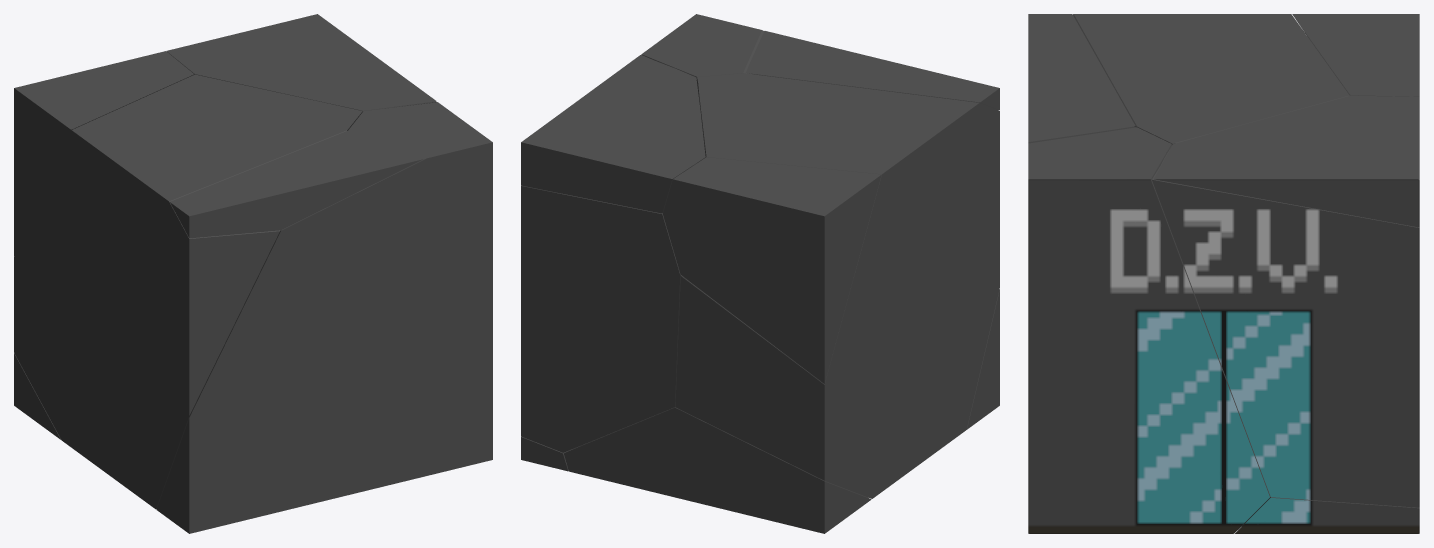
Rendered from GlassBuildingV128x128_Ground03_break.fbx.
The picture shows the model from 3 angles, left to right: view 1: azimuth 30°, elevation 25°; view 2: azimuth 150°, elevation 25°; view 3: azimuth 270°, elevation 25°; orthographic projection. The views are drawn at different scales.
Parts seen in each view (by area): view 1: Ground03Break05, Ground03Break06, Ground03Break02, Ground03Break07, Ground03Break08, Ground03Break01; view 2: Ground03Break06, Ground03Break04, Ground03Break08, Ground03Break02, Ground03Break01, Ground03Break07, Ground03Break05, Ground03Break03; view 3: Ground03Break05, Ground03Break04, Ground03Break06, Ground03Break02, Ground03Break07, Ground03Break08, Ground03Break03.
Part boxes in pixels (<box>): Ground03Break05: <box>156,102,492,533</box>; Ground03Break06: <box>14,74,362,509</box>; Ground03Break02: <box>166,14,436,110</box>; Ground03Break07: <box>170,131,423,238</box>; Ground03Break08: <box>14,51,194,255</box>; Ground03Break01: <box>14,353,61,439</box>; Ground03Break06: <box>675,73,999,498</box>; Ground03Break04: <box>521,55,680,452</box>; Ground03Break08: <box>663,157,881,383</box>; Ground03Break02: <box>521,55,705,213</box>; Ground03Break01: <box>563,407,871,533</box>; Ground03Break07: <box>746,31,999,109</box>; Ground03Break05: <box>641,14,999,429</box>; Ground03Break03: <box>521,419,645,471</box>; Ground03Break05: <box>1028,126,1270,533</box>; Ground03Break04: <box>1152,167,1419,507</box>; Ground03Break06: <box>1073,14,1349,144</box>; Ground03Break02: <box>1154,95,1419,227</box>; Ground03Break07: <box>1028,14,1135,141</box>; Ground03Break08: <box>1292,14,1419,96</box>; Ground03Break03: <box>1235,497,1419,533</box>.
Size of the model in its own units: 100 by 100 by 100.
1 material, 1 textured.
